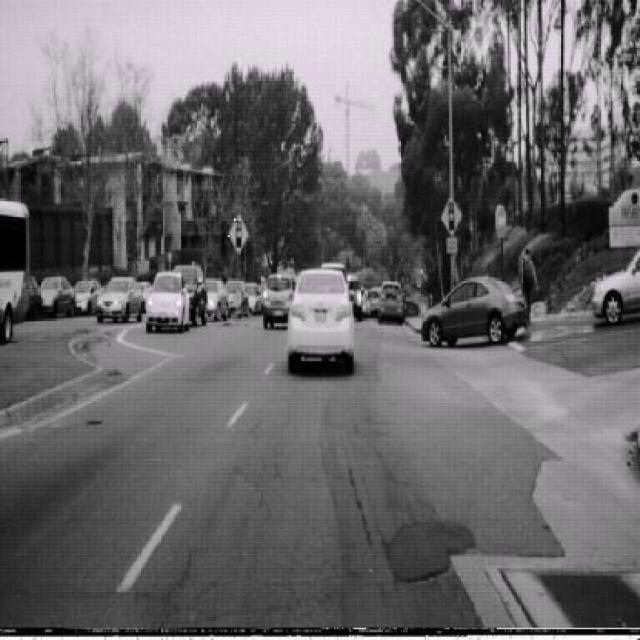signalAhead: (442, 195, 463, 237), (228, 212, 249, 254)
stop: (494, 203, 507, 240)
